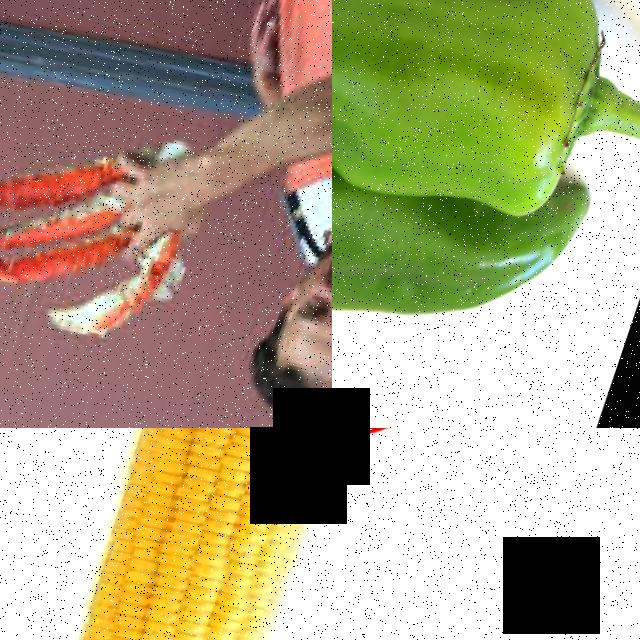chilli: (332, 0, 640, 300), (332, 88, 575, 428), (332, 428, 640, 610)
corn: (1, 428, 332, 640)
crab: (0, 72, 138, 328), (43, 221, 192, 377)
